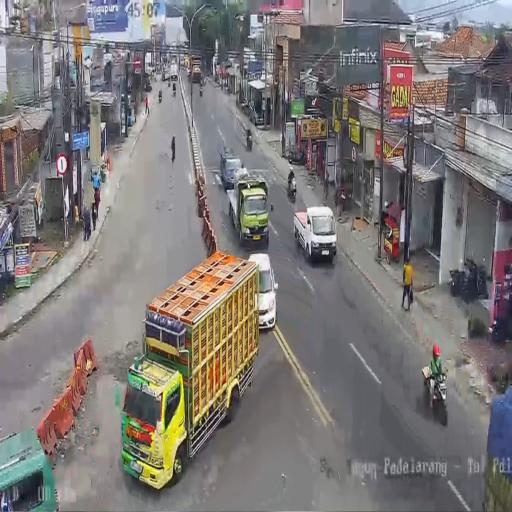3: (226, 170, 268, 248), (190, 55, 202, 84), (170, 60, 178, 80)
car: (294, 204, 336, 263), (247, 252, 276, 328), (218, 147, 241, 190), (162, 68, 168, 81), (186, 68, 190, 80)
truck: (286, 146, 306, 165), (287, 178, 297, 202), (246, 130, 253, 151), (241, 100, 249, 116), (201, 75, 206, 87), (199, 84, 203, 98), (158, 92, 162, 102), (167, 78, 170, 88)
